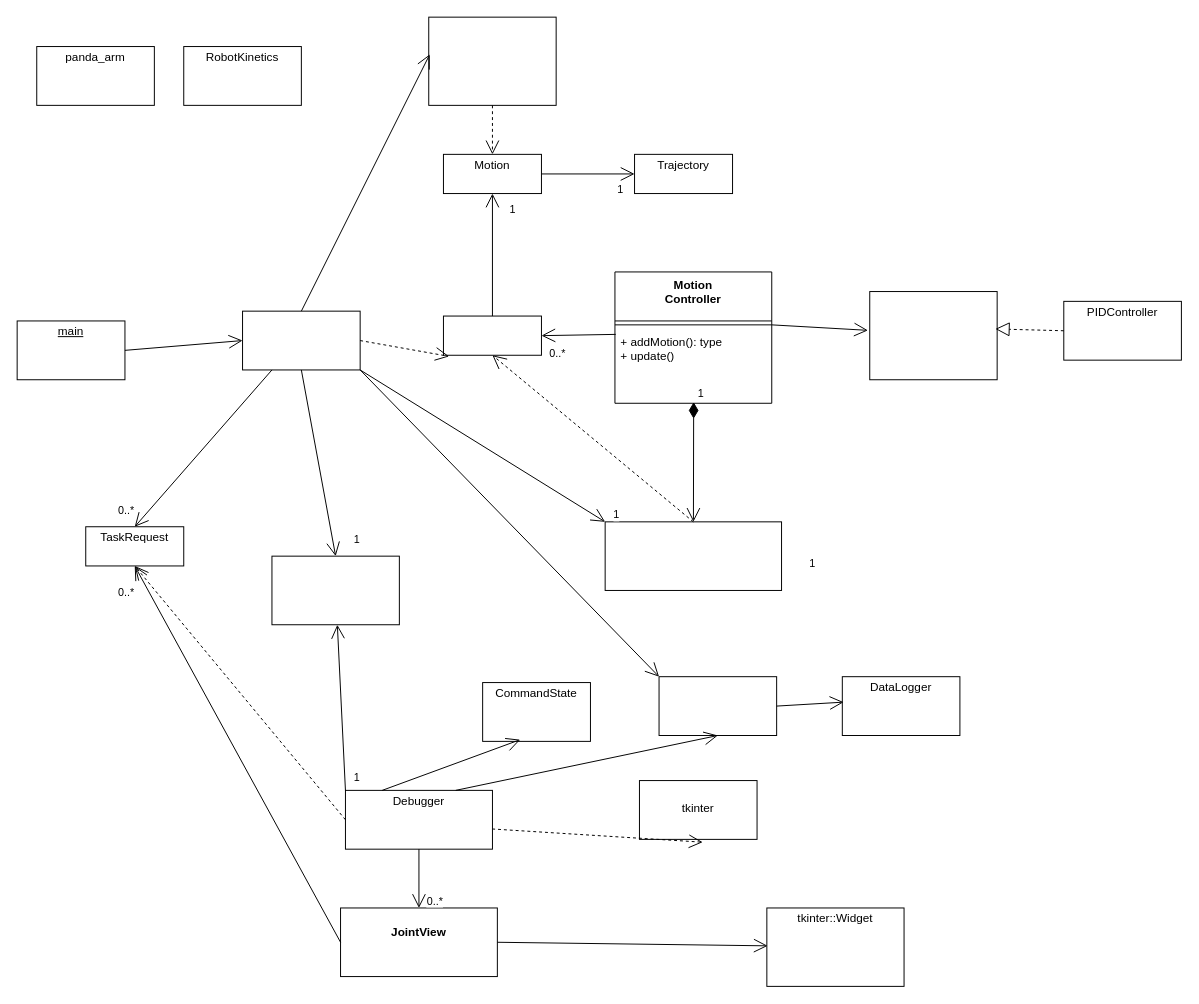
Some shapes in this 1199 by 1004 pixel diagram are drawn without their labels. The box of each missing label's shape, as (x1, y1, x2, y2) in pixels:
<<Interface>> Controller + update(): (869, 291, 997, 380)
<<Interface>> MotionControllerService + request(): (604, 521, 782, 590)
<<Interface>> MotionPlanner + generateMotion(): (428, 16, 556, 105)
<<Interface>> TaskManagerService + request(): (271, 555, 399, 625)
MotionRequest: (442, 315, 541, 355)
SimState: (658, 676, 777, 735)
TaskManager: (242, 310, 360, 370)
